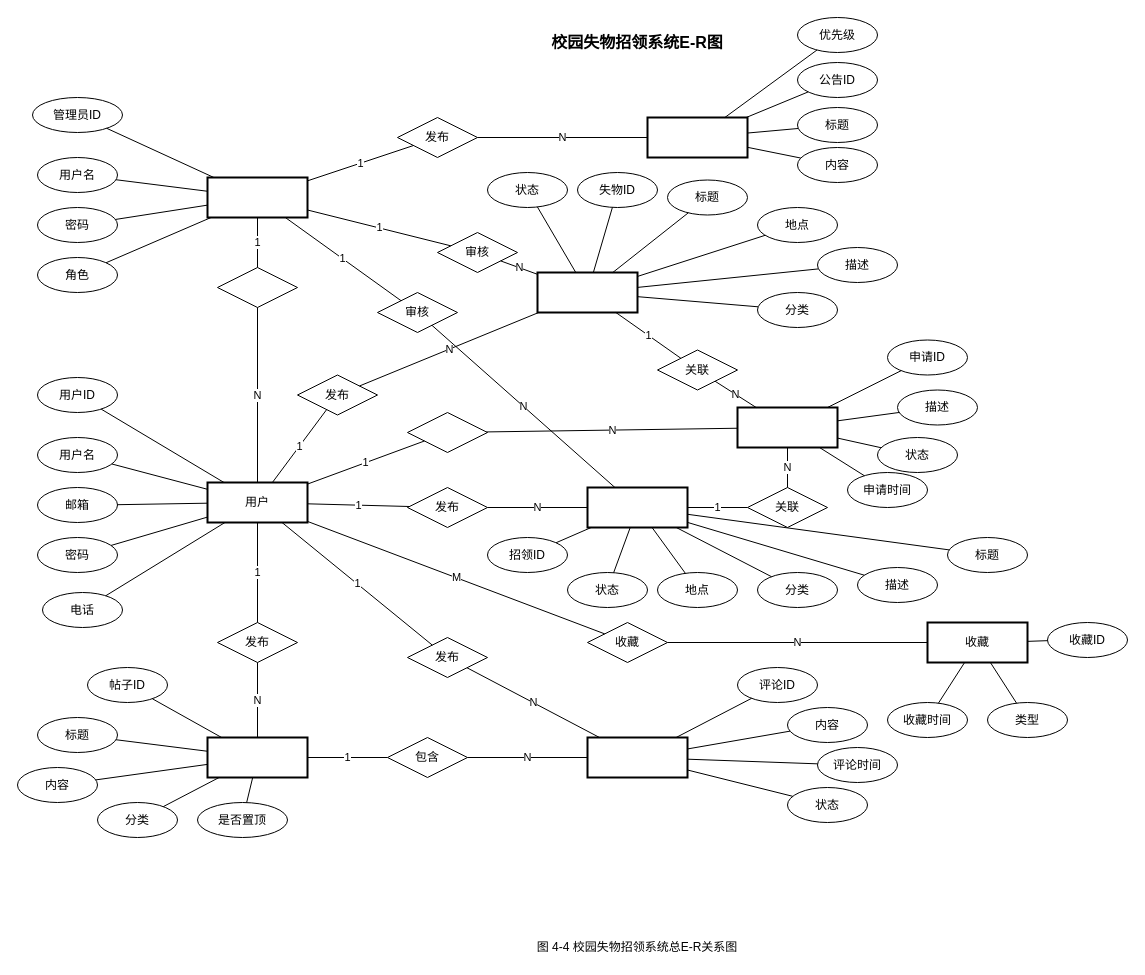
The diagram is 1145 pixels wide and 975 high, and some of its shapes have lost their labels. The centre of each missing label's shape, as x and y in pixels:
"公告" belongs at (x=697, y=137).
"失物信息" belongs at (x=587, y=292).
"招领信息" belongs at (x=637, y=507).
"申请" belongs at (x=447, y=432).
"管理" belongs at (x=257, y=287).
"管理员" belongs at (x=257, y=197).
"认领申请" belongs at (x=787, y=427).
"论坛帖子" belongs at (x=257, y=757).
"评论" belongs at (x=637, y=757).
